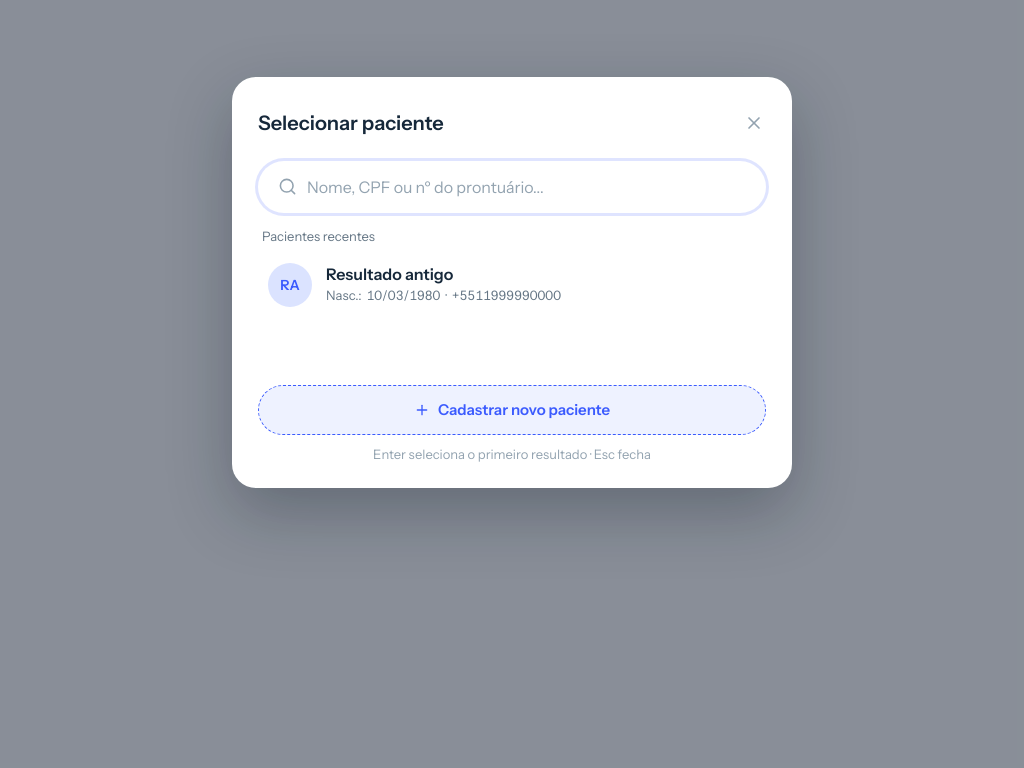
Test: PatientSearchDialog › não exibe nem seleciona resultado antigo enquanto a nova busca aguarda debounce
This screenshot has width=1024, height=768.
Expected: the text "Resultado antigo" is shown, x1=326 y1=264 x2=453 y2=284
In the search field named "Buscar paciente": (526, 187) x1=307 y1=165 x2=746 y2=209, type "Resultado atual"
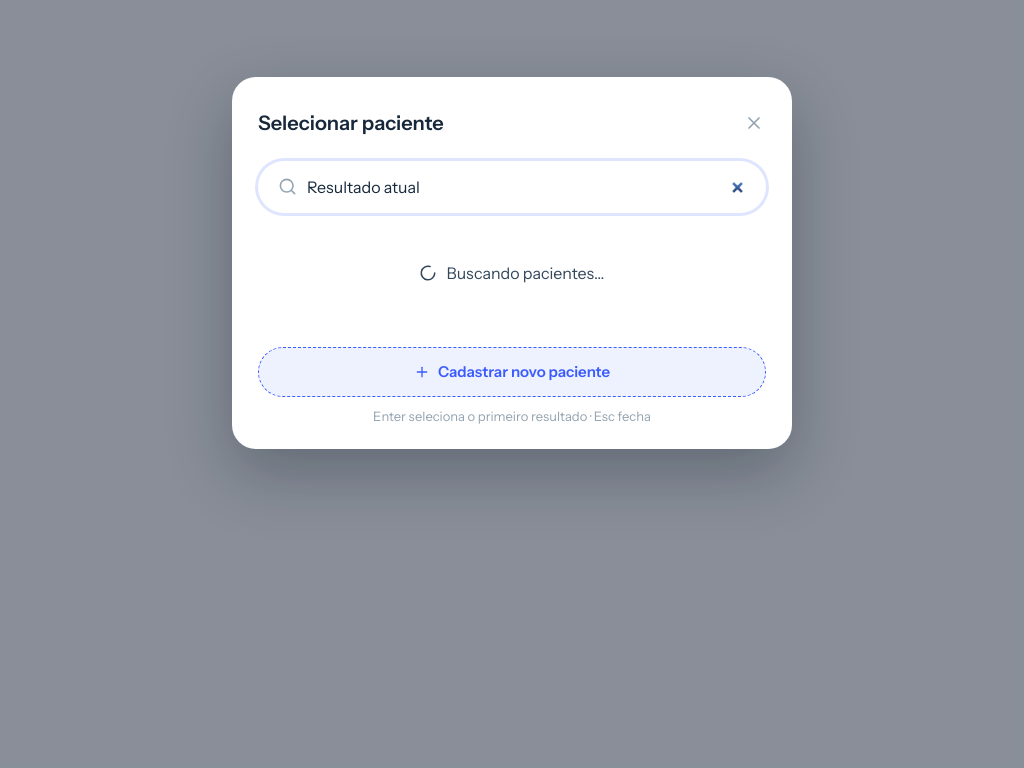
Expected: the button "Resultado antigo" is gone
Expected: the message shows "Buscando pacientes", x1=446 y1=263 x2=605 y2=283
Press Enter in the search field named "Buscar paciente", box x1=307 y1=165 x2=746 y2=209
Press ArrowDown in the search field named "Buscar paciente", box x1=307 y1=165 x2=746 y2=209
Wait 250 ms
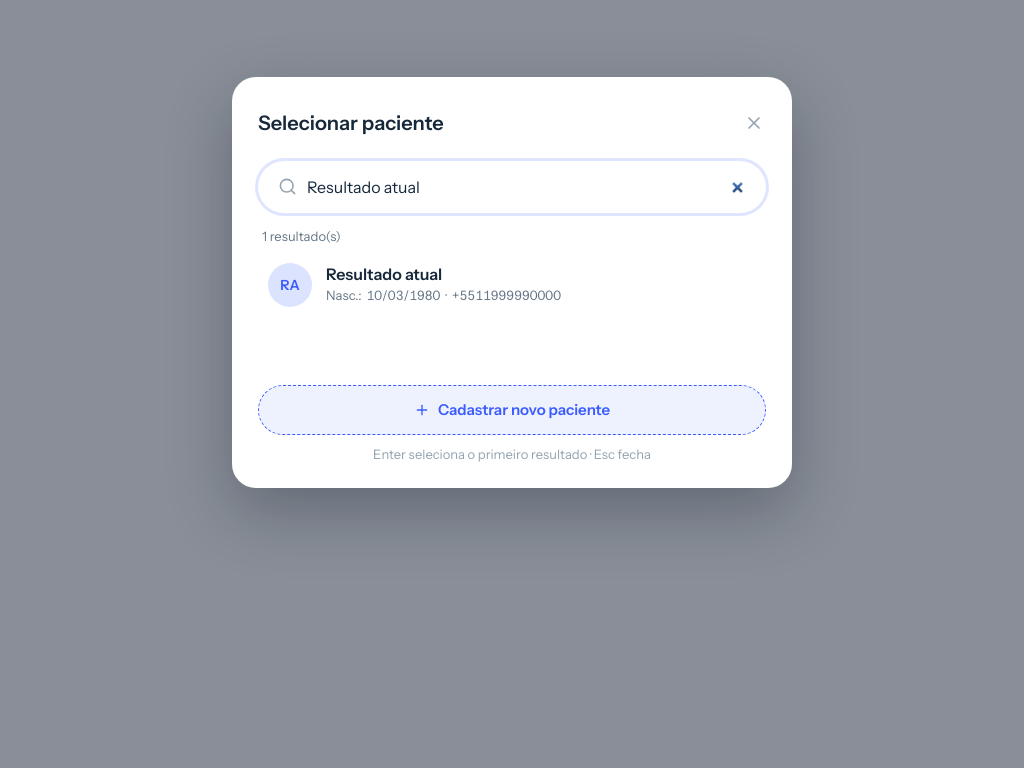
Expected: the text "Resultado atual" is shown, x1=326 y1=264 x2=442 y2=284
